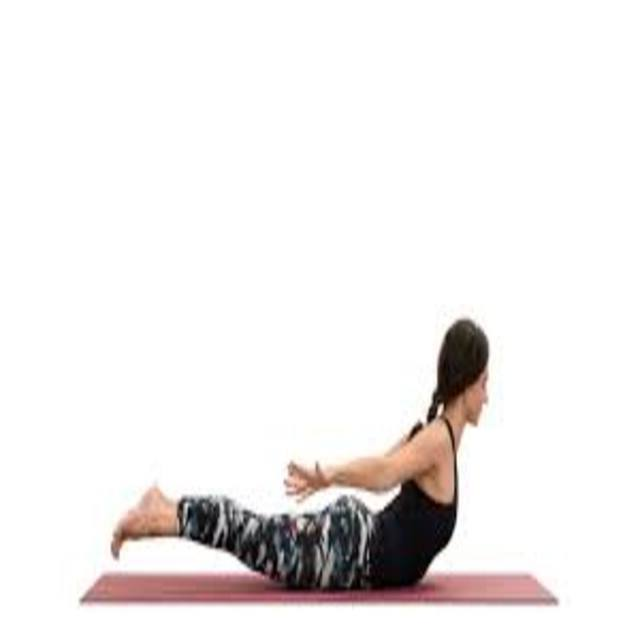Locust_Pose: (111, 317, 493, 597)
